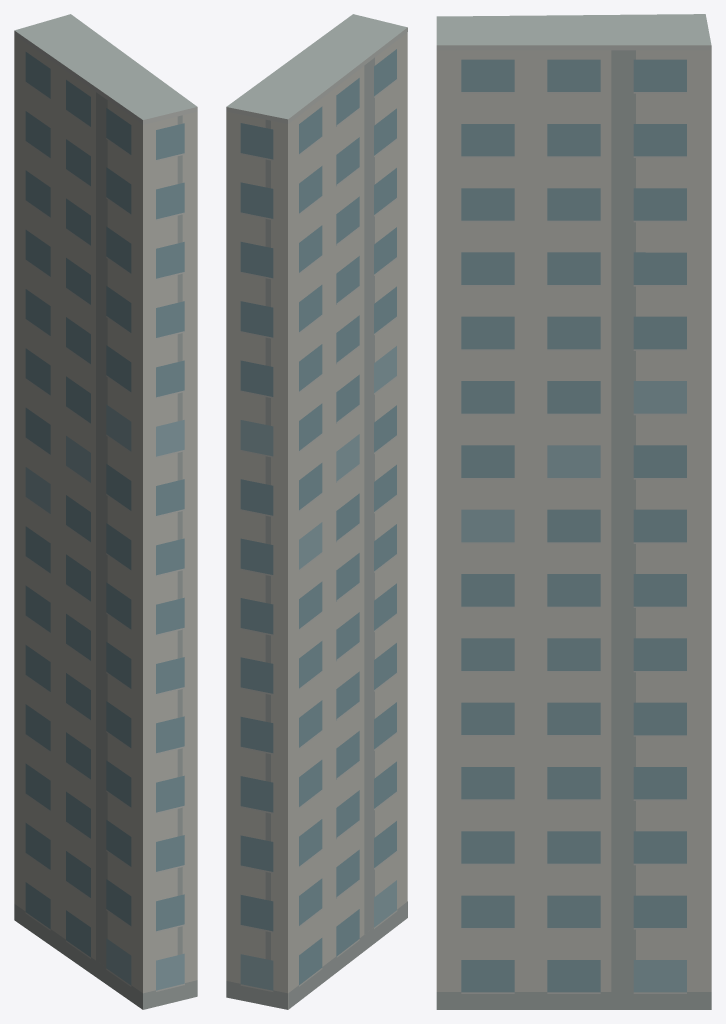
Rendered from survey-upis-32949923.glb.
3 renders of one model, left to right at view 1: azimuth 30°, elevation 25°; view 2: azimuth 150°, elevation 25°; view 3: azimuth 270°, elevation 25°, orthographic. The views are drawn at different scales.
Parts seen in each view (by area): view 1: survey-upis-32949923.tmp; view 2: survey-upis-32949923.tmp; view 3: survey-upis-32949923.tmp.
Boxes of the visible parts, left/top/right/bottom form: survey-upis-32949923.tmp: left=14, top=14, right=197, bottom=1009; survey-upis-32949923.tmp: left=226, top=14, right=407, bottom=1009; survey-upis-32949923.tmp: left=436, top=14, right=711, bottom=1009.
Bounding box in the file's own units: 3.2 × 45.75 × 11.84.
